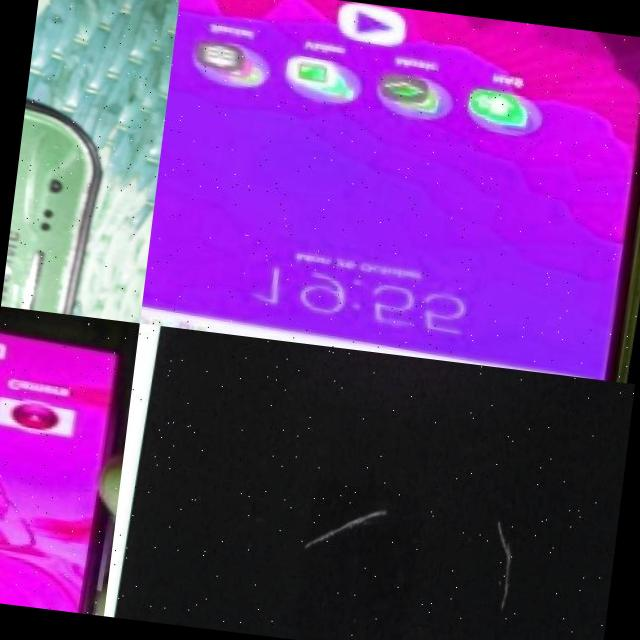scratch: (303, 488, 392, 559), (483, 511, 523, 604)
screen crack: (0, 70, 131, 318)
